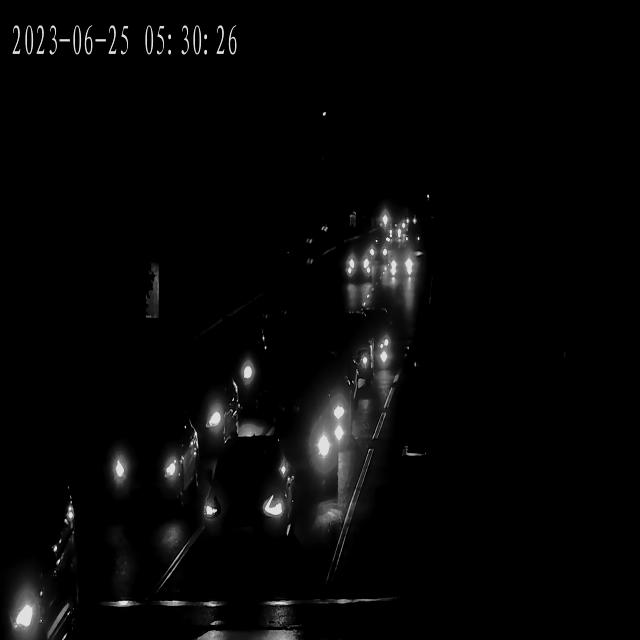Car: (0, 461, 83, 640), (202, 439, 292, 574), (107, 399, 196, 534), (170, 372, 243, 467), (276, 399, 338, 501), (294, 373, 352, 464), (326, 316, 378, 385), (218, 331, 268, 400), (356, 321, 396, 369), (346, 239, 370, 282), (388, 252, 412, 283), (376, 224, 391, 247), (371, 245, 388, 263), (390, 226, 408, 242), (374, 208, 389, 225), (402, 214, 416, 232)
